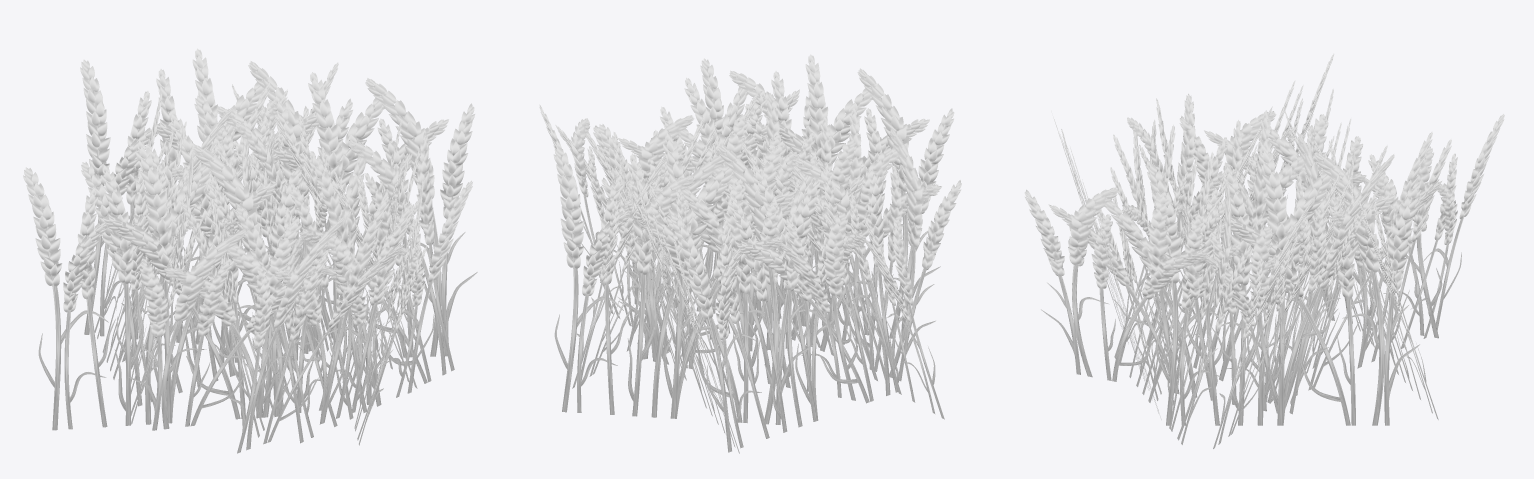
The model's file is WheatPlant03.fbx.
3 views of the same model, side by side, from view 1: azimuth 30°, elevation 25°; view 2: azimuth 150°, elevation 25°; view 3: azimuth 270°, elevation 25° (orthographic). The views are drawn at different scales.
Visible parts, largest first — view 1: WheatPlant03_LOD0; view 2: WheatPlant03_LOD0; view 3: WheatPlant03_LOD0.
Boxes of the visible parts, left/top/right/bottom form: WheatPlant03_LOD0: left=23, top=48, right=477, bottom=453; WheatPlant03_LOD0: left=539, top=54, right=961, bottom=453; WheatPlant03_LOD0: left=1024, top=53, right=1504, bottom=448.
Size of what is drawn, in the model's own units: 141 by 83.82 by 140.
